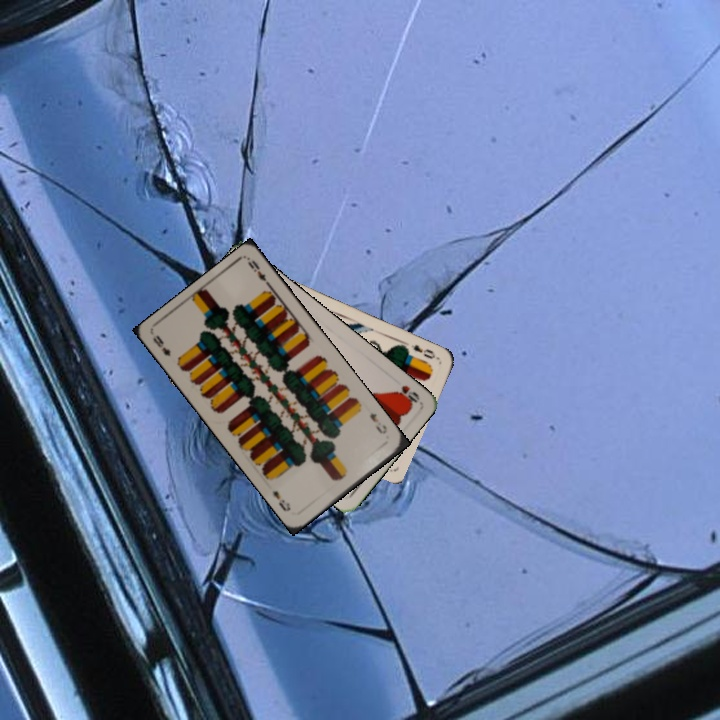E9: (366, 409, 390, 437), (149, 331, 173, 359)
EO: (407, 340, 438, 361)
HO: (392, 381, 422, 407)
